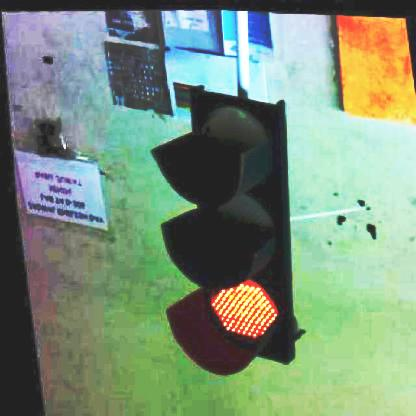Traffic Light -Red-: (136, 87, 316, 378)
